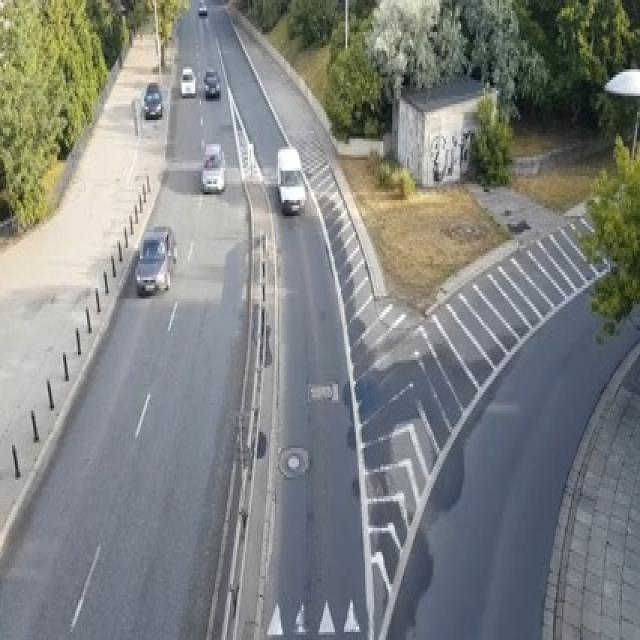car: (134, 224, 177, 296), (275, 144, 306, 213), (200, 141, 225, 192), (143, 83, 162, 117), (179, 67, 195, 96), (203, 67, 219, 96), (197, 0, 207, 16)
